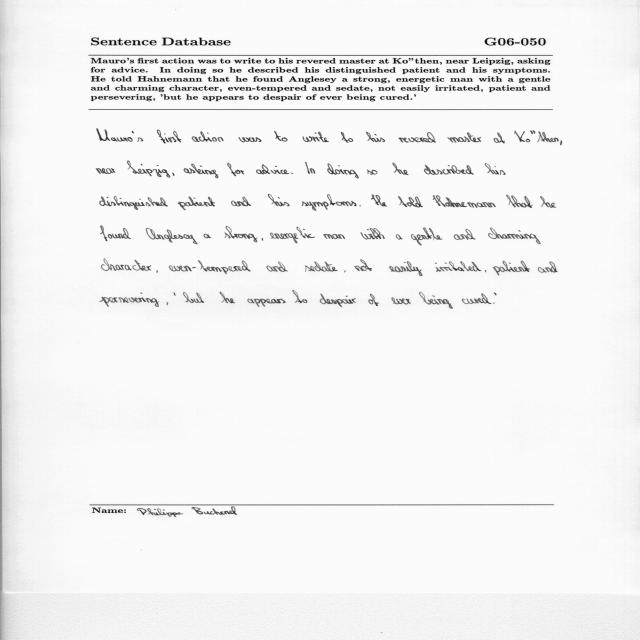word: (169, 260, 251, 274), (100, 196, 168, 210), (302, 194, 357, 211), (100, 292, 159, 307), (488, 228, 541, 244), (433, 195, 496, 208), (146, 228, 197, 244), (270, 227, 315, 244), (127, 161, 170, 178), (102, 259, 152, 271), (97, 129, 143, 142), (419, 292, 453, 309), (411, 228, 442, 246), (493, 261, 530, 276), (515, 131, 559, 143), (225, 226, 258, 242), (184, 164, 219, 179), (178, 197, 215, 211), (389, 261, 423, 276), (435, 261, 481, 272), (424, 165, 474, 175), (327, 164, 359, 179), (320, 294, 356, 307), (100, 226, 131, 241), (398, 132, 436, 143), (448, 132, 482, 143), (305, 261, 338, 272), (192, 131, 224, 142), (506, 195, 533, 208), (157, 130, 182, 144), (256, 164, 290, 174), (247, 299, 286, 307), (302, 132, 329, 143), (462, 294, 491, 304), (398, 196, 423, 207), (360, 228, 385, 239), (268, 195, 290, 207), (266, 261, 288, 272), (485, 163, 505, 175), (454, 229, 475, 240), (183, 292, 204, 303), (227, 163, 244, 176), (538, 262, 558, 273), (354, 260, 372, 272), (392, 163, 409, 175), (231, 197, 251, 207), (293, 291, 308, 304), (371, 195, 387, 207), (540, 196, 556, 208), (366, 132, 385, 142), (219, 292, 235, 303), (274, 131, 288, 142), (391, 298, 411, 305), (341, 132, 353, 143), (368, 294, 379, 306), (494, 133, 505, 144), (305, 162, 315, 174), (239, 137, 262, 142), (97, 168, 116, 174), (323, 234, 345, 239), (367, 170, 377, 175), (396, 235, 403, 240), (204, 234, 211, 238), (560, 140, 562, 145), (494, 293, 497, 296), (174, 292, 176, 296), (172, 173, 174, 176), (156, 270, 158, 273), (344, 271, 346, 273), (262, 238, 263, 241), (167, 302, 168, 305), (291, 173, 293, 174), (360, 206, 362, 207), (485, 270, 486, 272), (493, 303, 495, 304)
